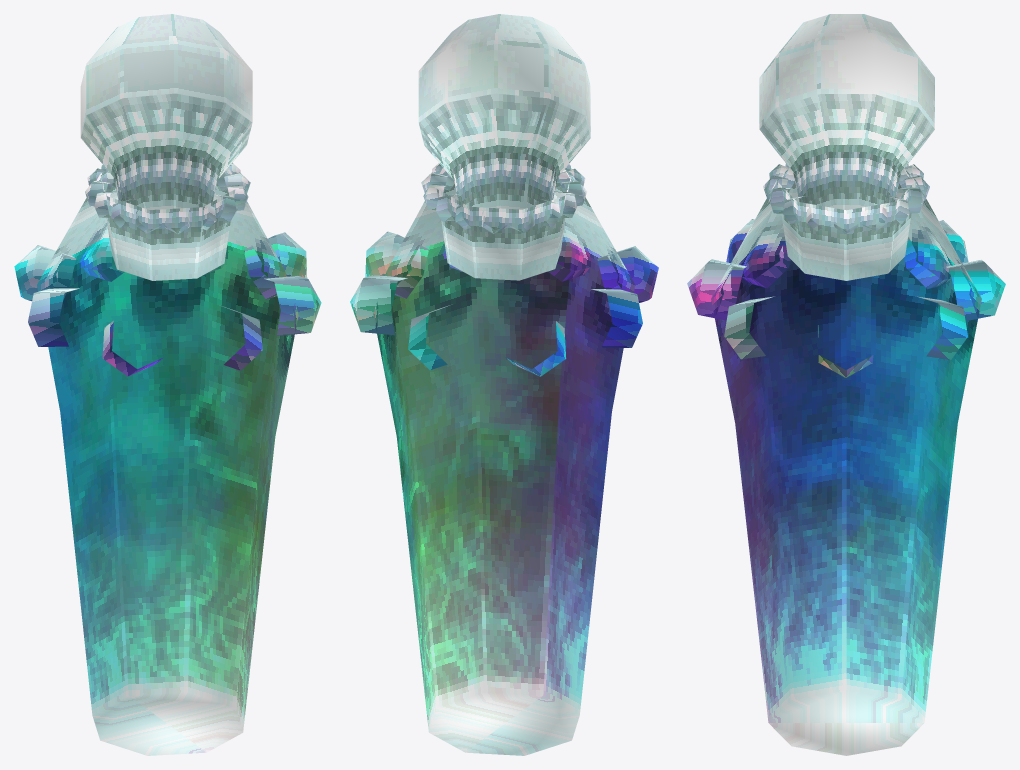
File: ps2_save-icons_fragrancetale.glb
The picture shows the model from 3 angles, left to right: view 1: azimuth 30°, elevation 25°; view 2: azimuth 150°, elevation 25°; view 3: azimuth 270°, elevation 25°; orthographic projection.
Parts seen in each view (by area): view 1: ft.ico; view 2: ft.ico; view 3: ft.ico.
Boxes of the visible parts, left/top/right/bottom form: ft.ico: left=14, top=14, right=321, bottom=755; ft.ico: left=350, top=14, right=658, bottom=755; ft.ico: left=687, top=14, right=1005, bottom=755.
Size of the model in its own units: 1.94 by 4.72 by 1.94.
Materials: 1 (1 with a texture image).
